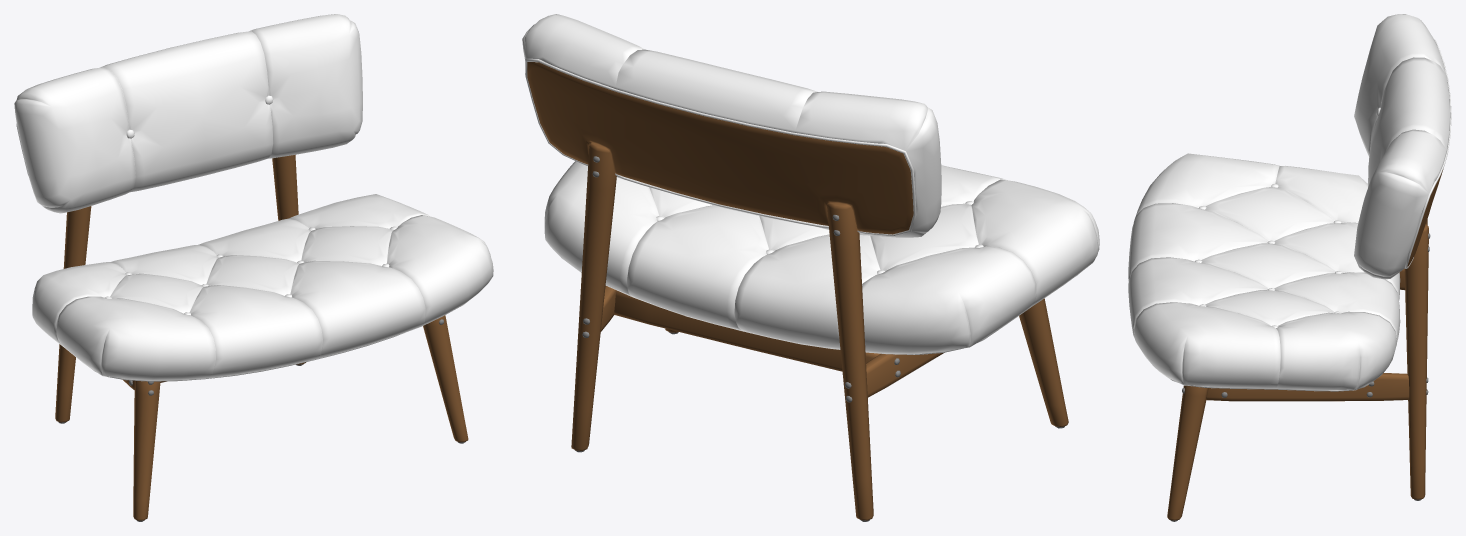
The model's file is chair.glb.
The picture shows the model from 3 angles, left to right: view 1: azimuth 30°, elevation 25°; view 2: azimuth 150°, elevation 25°; view 3: azimuth 270°, elevation 25°; orthographic projection. The views are drawn at different scales.
Parts seen in each view (by area): view 1: oval-tufted-chair_seat-fabric, oval-tufted-chair_back-fabric, oval-tufted-chair_legs-frame; view 2: oval-tufted-chair_seat-fabric, oval-tufted-chair_back-panel, oval-tufted-chair_legs-frame, oval-tufted-chair_back-fabric, oval-tufted-chair_back-welt; view 3: oval-tufted-chair_seat-fabric, oval-tufted-chair_back-fabric, oval-tufted-chair_legs-frame, oval-tufted-chair_back-welt, oval-tufted-chair_back-panel.
Boxes of the visible parts, left/top/right/bottom form: oval-tufted-chair_seat-fabric: left=32, top=194, right=493, bottom=380; oval-tufted-chair_back-fabric: left=14, top=14, right=362, bottom=213; oval-tufted-chair_legs-frame: left=55, top=154, right=468, bottom=520; oval-tufted-chair_seat-fabric: left=544, top=161, right=1099, bottom=354; oval-tufted-chair_back-panel: left=527, top=62, right=913, bottom=234; oval-tufted-chair_legs-frame: left=571, top=142, right=1068, bottom=520; oval-tufted-chair_back-fabric: left=522, top=14, right=941, bottom=237; oval-tufted-chair_back-welt: left=525, top=58, right=916, bottom=236; oval-tufted-chair_seat-fabric: left=1128, top=153, right=1400, bottom=390; oval-tufted-chair_back-fabric: left=1354, top=14, right=1450, bottom=279; oval-tufted-chair_legs-frame: left=1167, top=219, right=1428, bottom=520; oval-tufted-chair_back-welt: left=1404, top=39, right=1451, bottom=268; oval-tufted-chair_back-panel: left=1407, top=169, right=1443, bottom=266.
Bounding box in the file's own units: 0.8286 × 0.6874 × 0.5718.
